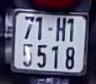1: (36, 15, 44, 42), (67, 18, 75, 44), (51, 43, 58, 69)
5: (35, 43, 48, 70), (22, 41, 34, 69)
7: (23, 16, 35, 40)
8: (65, 46, 76, 70)
H: (56, 16, 66, 43)
